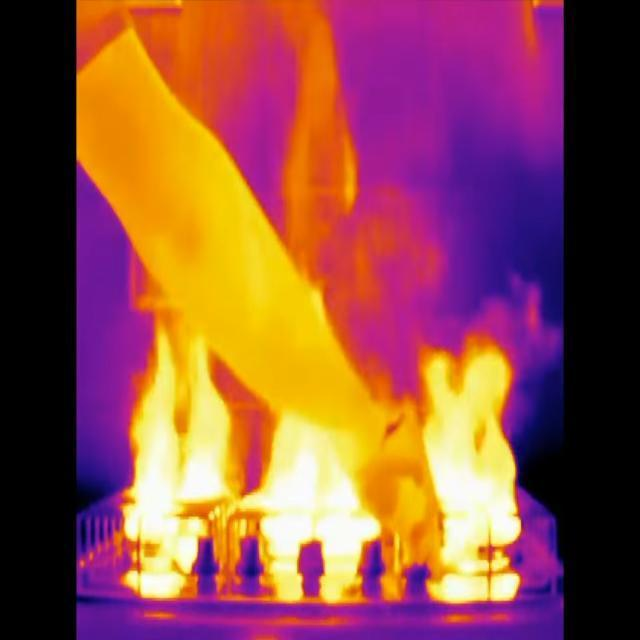fire: (250, 446, 377, 607), (118, 446, 227, 605), (413, 454, 525, 606)
